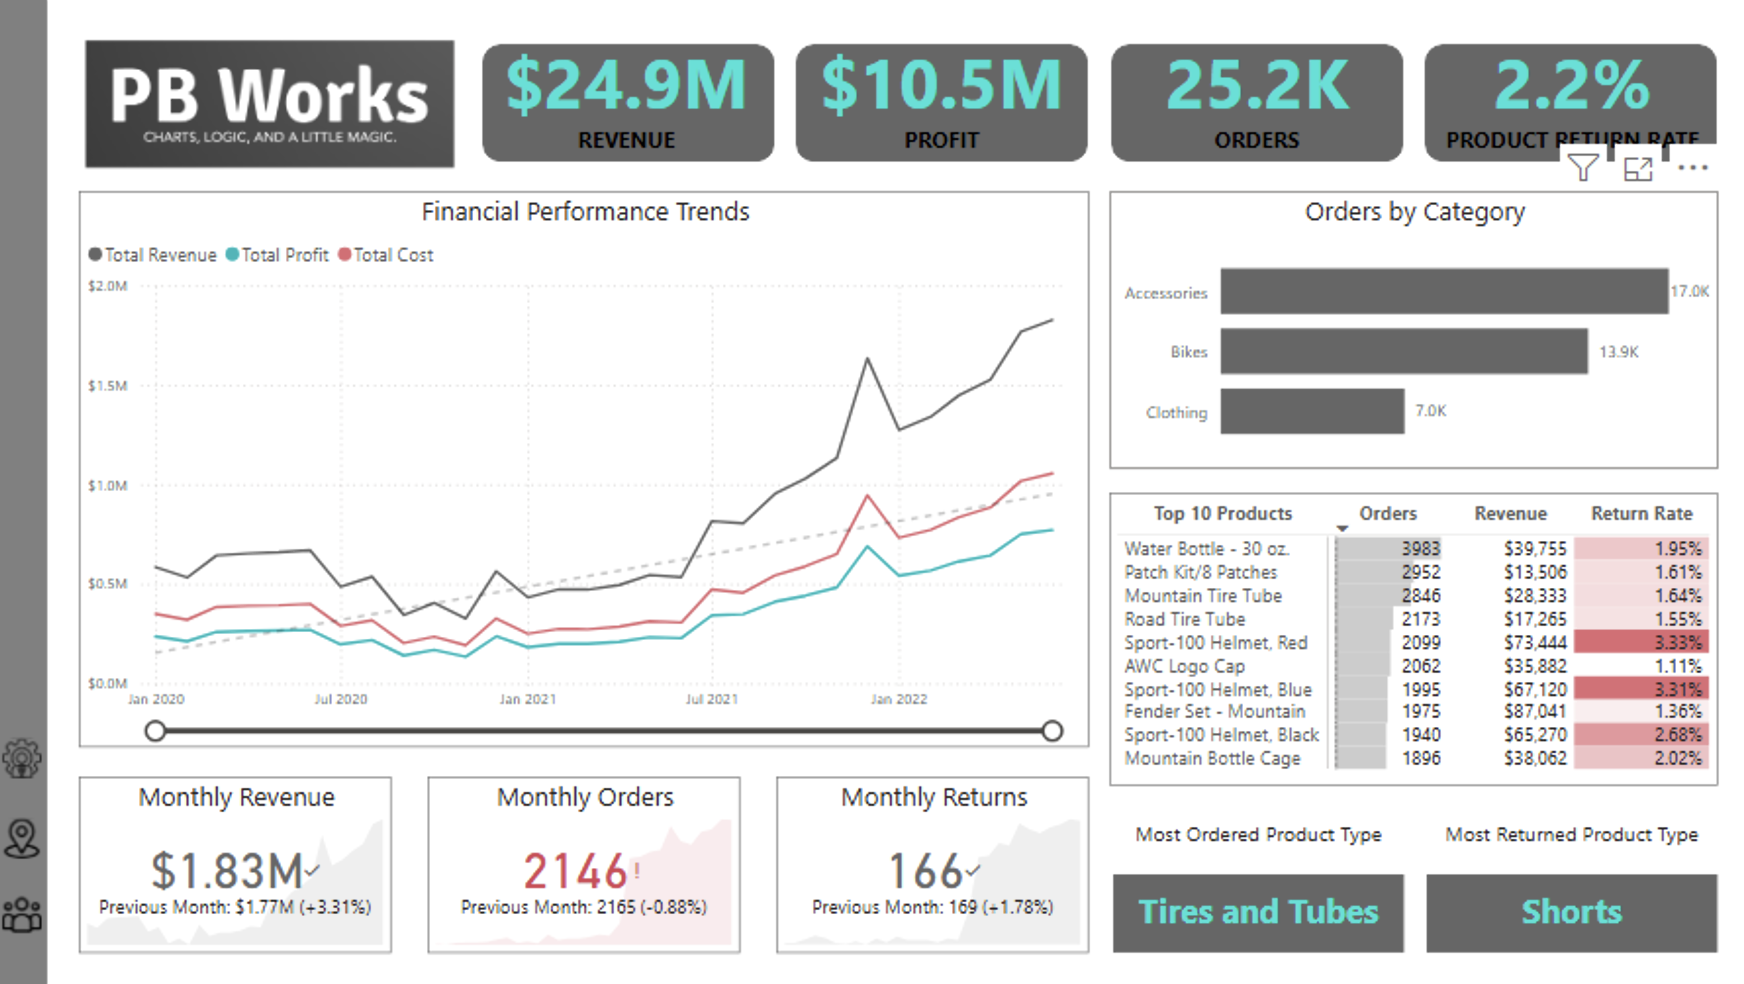

What the dashboard file says about the page in this screenshot:
{"tool":"powerbi","page":{"name":"Executive Dashboard","canvas":[1280,720],"ordinal":0},"visuals":[{"type":"shape","box":[0,0,37.2,720],"z":0},{"type":"card","fields":{"Values":["Measure Table.Total Revenue"]},"box":[353.4,0,213.9,139.5],"z":0,"group":"g2"},{"type":"shape","box":[354,33.1,213.9,86.3],"z":0,"group":"g1"},{"type":"card","fields":{"Values":["Measure Table.Total Profit"]},"box":[583.2,0,213.9,139.5],"z":1000,"group":"g2"},{"type":"image","title":"Logo","box":[59.8,23.8,279,104.9],"z":1000},{"type":"shape","box":[583.2,33.1,213.9,86.3],"z":1000,"group":"g1"},{"type":"card","fields":{"Values":["Measure Table.Total Orders"]},"box":[813,0,213.9,139.5],"z":2000,"group":"g2"},{"type":"group","id":"g1","title":"KPI Backgrounda","box":[354,33.1,901.3,86.3],"z":2000},{"type":"shape","box":[812.3,33.1,213.9,86.3],"z":2000,"group":"g1"},{"type":"group","id":"g2","title":"KPI Values","box":[353.4,0,903.3,139.5],"z":3000},{"type":"card","fields":{"Values":["Measure Table.Return Rate"]},"box":[1042.8,0,213.9,139.5],"z":3000,"group":"g2"},{"type":"shape","box":[1041.5,33.1,213.9,86.3],"z":3000,"group":"g1"},{"type":"lineChart","title":"Financial Performance Trends","fields":{"Y":["Measure Table.Total Revenue","Measure Table.Total Profit","Measure Table.Total Cost"],"Category":["Calendar Lookup.Start of Month"]},"box":[60,140,737.1,405.7],"z":4000},{"type":"kpi","title":"Monthly Revenue","fields":{"Indicator":["Measure Table.Total Revenue"],"TrendLine":["Calendar Lookup.Start of Month"],"Goal":["Measure Table.Previous Month Revenue"]},"box":[59.8,567.2,228,128.9],"z":5000},{"type":"kpi","title":"Monthly Orders","fields":{"TrendLine":["Calendar Lookup.Start of Month"],"Indicator":["Measure Table.Total Orders"],"Goal":["Measure Table.Previous Month Orders"]},"box":[314.2,567.2,228,128.9],"z":6000},{"type":"kpi","title":"Monthly Returns","fields":{"TrendLine":["Calendar Lookup.Start of Month"],"Indicator":["Measure Table.Total Returns"],"Goal":["Measure Table.Previous Month Return"]},"box":[568.6,567.2,228.5,128.9],"z":7000},{"type":"clusteredBarChart","title":"Orders by Category","fields":{"Category":["Product Categories Lookup.CategoryName"],"Y":["Measure Table.Total Orders"]},"box":[811.4,140,444.3,202.9],"z":8000},{"type":"pivotTable","fields":{"Rows":["Product Lookup.ProductName"],"Values":["Measure Table.Total Orders","Measure Table.Total Revenue","Measure Table.Return Rate"]},"box":[811.4,360,444.3,214.3],"z":9000},{"type":"card","fields":{"Values":["Min(Product Subcategories Lookup.SubcategoryName)"]},"box":[814.4,639.2,212.1,56.9],"z":10000},{"type":"textbox","box":[814.4,593.1,212.1,41.5],"z":11000},{"type":"card","fields":{"Values":["Min(Product Subcategories Lookup.SubcategoryName)"]},"box":[1043.4,639.2,212.1,56.9],"z":12000},{"type":"textbox","box":[1043.4,593.1,212.1,41.5],"z":13000},{"type":"actionButton","box":[0,648.3,37.2,39.9],"z":13001},{"type":"actionButton","box":[0,592.5,37.2,39.9],"z":13002},{"type":"actionButton","box":[0,534,37.2,39.9],"z":13004}]}

Visuals, with their boxes on the page's 1280x720 design canvas (x1, y1, x2, y2). These are canvas units, not pixel positions in the 1744x984 screenshot, which may show the page scaled, cropped or inside an application window:
shape: box(0, 0, 37, 720)
card - Measure Table.Total Revenue: box(353, 0, 567, 140)
shape: box(354, 33, 568, 119)
card - Measure Table.Total Profit: box(583, 0, 797, 140)
"Logo" image: box(60, 24, 339, 129)
shape: box(583, 33, 797, 119)
card - Measure Table.Total Orders: box(813, 0, 1027, 140)
"KPI Backgrounda" group: box(354, 33, 1255, 119)
shape: box(812, 33, 1026, 119)
"KPI Values" group: box(353, 0, 1257, 140)
card - Measure Table.Return Rate: box(1043, 0, 1257, 140)
shape: box(1042, 33, 1255, 119)
"Financial Performance Trends" lineChart: box(60, 140, 797, 546)
"Monthly Revenue" kpi: box(60, 567, 288, 696)
"Monthly Orders" kpi: box(314, 567, 542, 696)
"Monthly Returns" kpi: box(569, 567, 797, 696)
"Orders by Category" clusteredBarChart: box(811, 140, 1256, 343)
pivotTable - Product Lookup.ProductName x Measure Table.Total Orders: box(811, 360, 1256, 574)
card - Min(Product Subcategories Lookup.SubcategoryName): box(814, 639, 1026, 696)
textbox: box(814, 593, 1026, 635)
card - Min(Product Subcategories Lookup.SubcategoryName): box(1043, 639, 1256, 696)
textbox: box(1043, 593, 1256, 635)
actionButton: box(0, 648, 37, 688)
actionButton: box(0, 592, 37, 632)
actionButton: box(0, 534, 37, 574)
